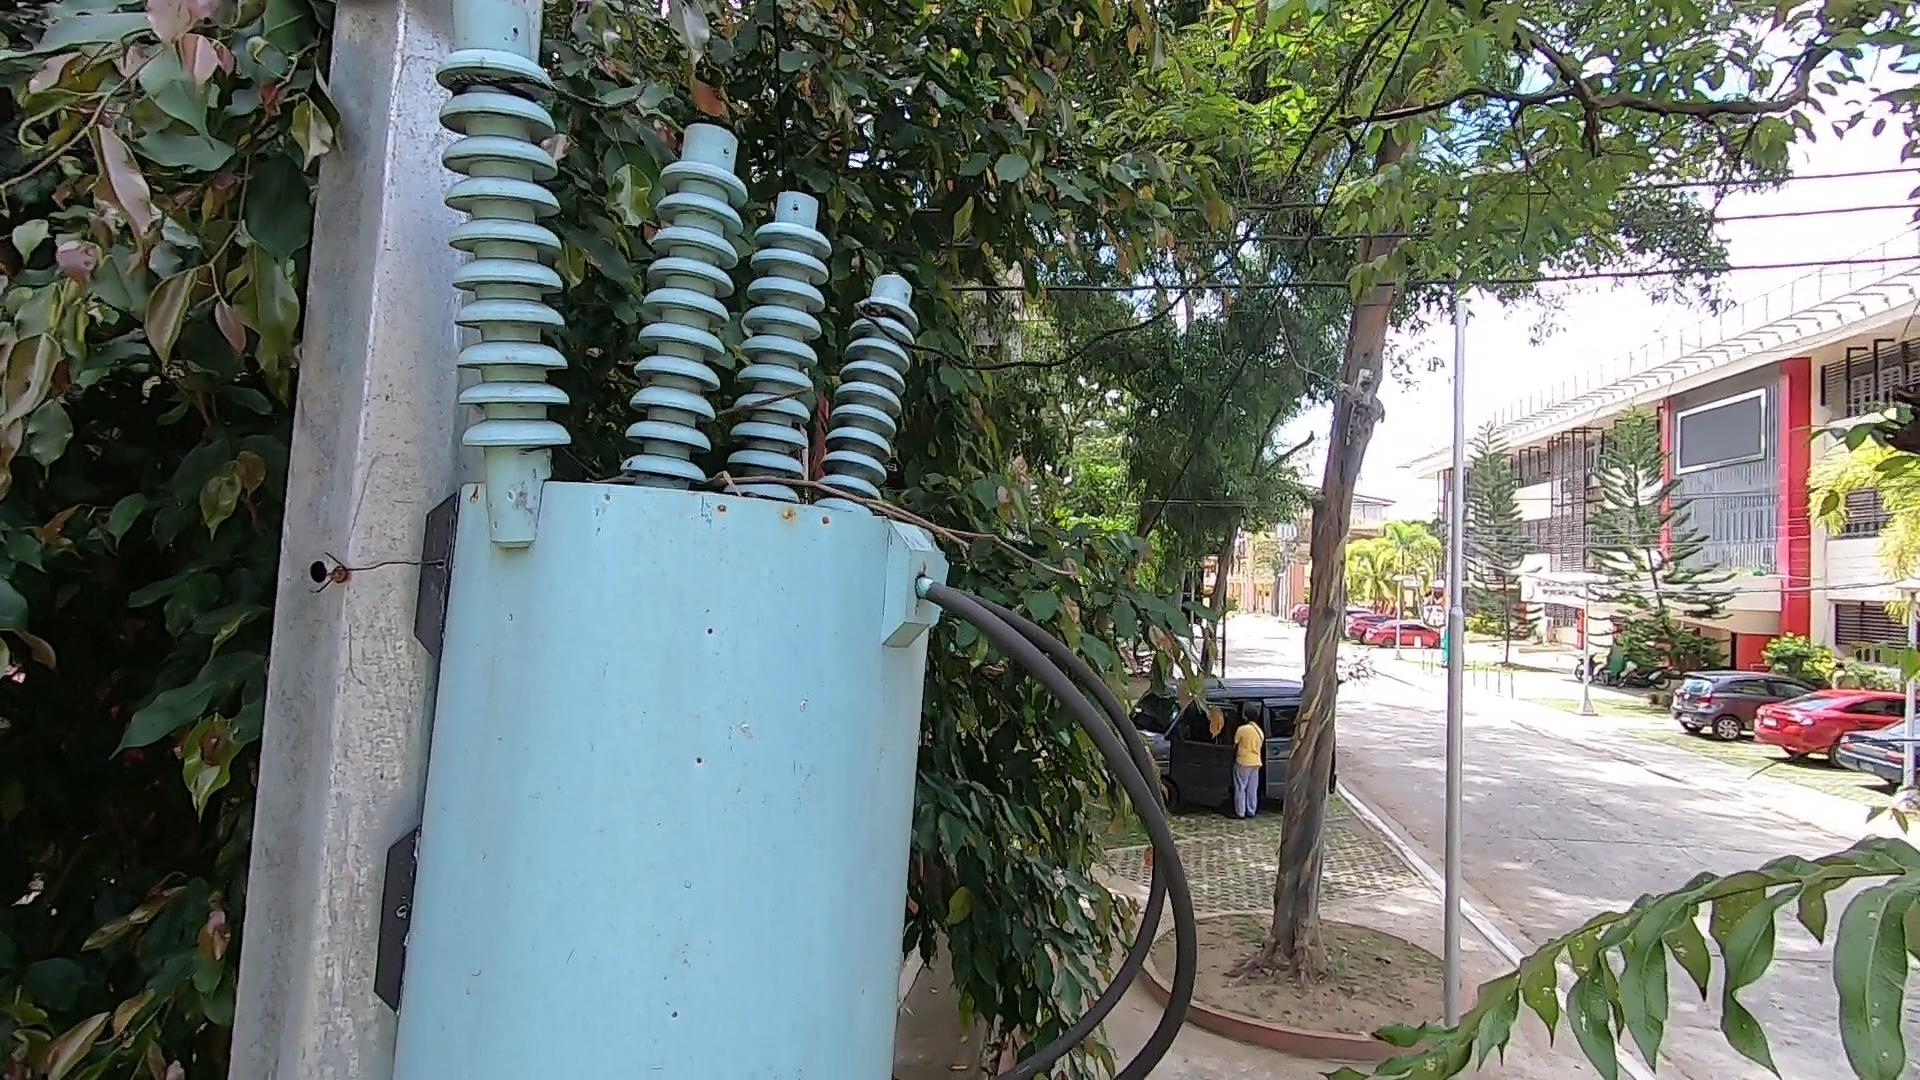tree branch: (564, 415, 1092, 600)
